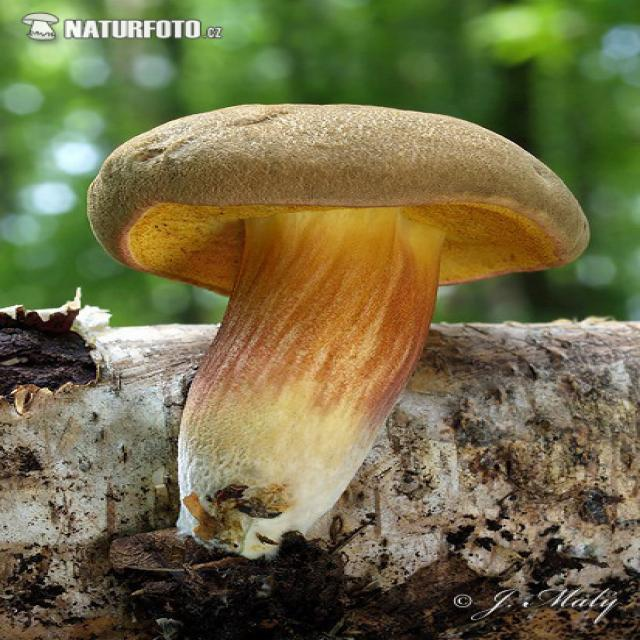Boletus: (94, 102, 590, 563)
